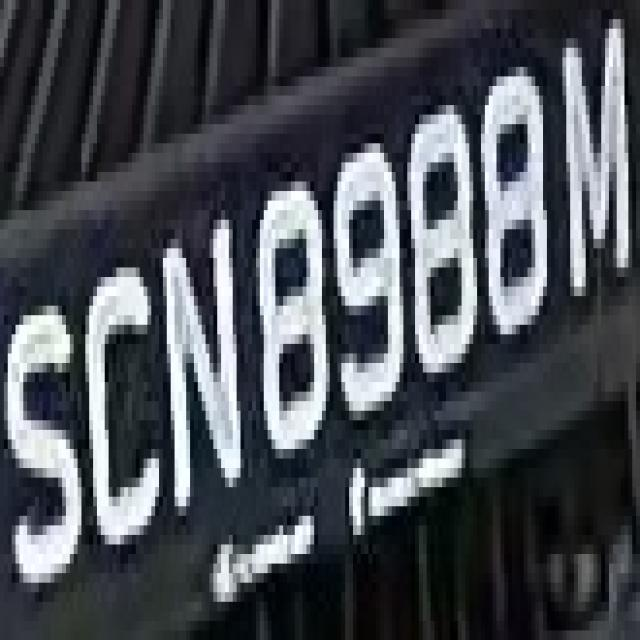8: (248, 143, 334, 516), (473, 38, 559, 373), (399, 96, 485, 420)
9: (322, 144, 411, 458)
C: (85, 238, 171, 564)
M: (547, 19, 640, 334)
N: (159, 191, 248, 535)
S: (4, 277, 85, 611)
